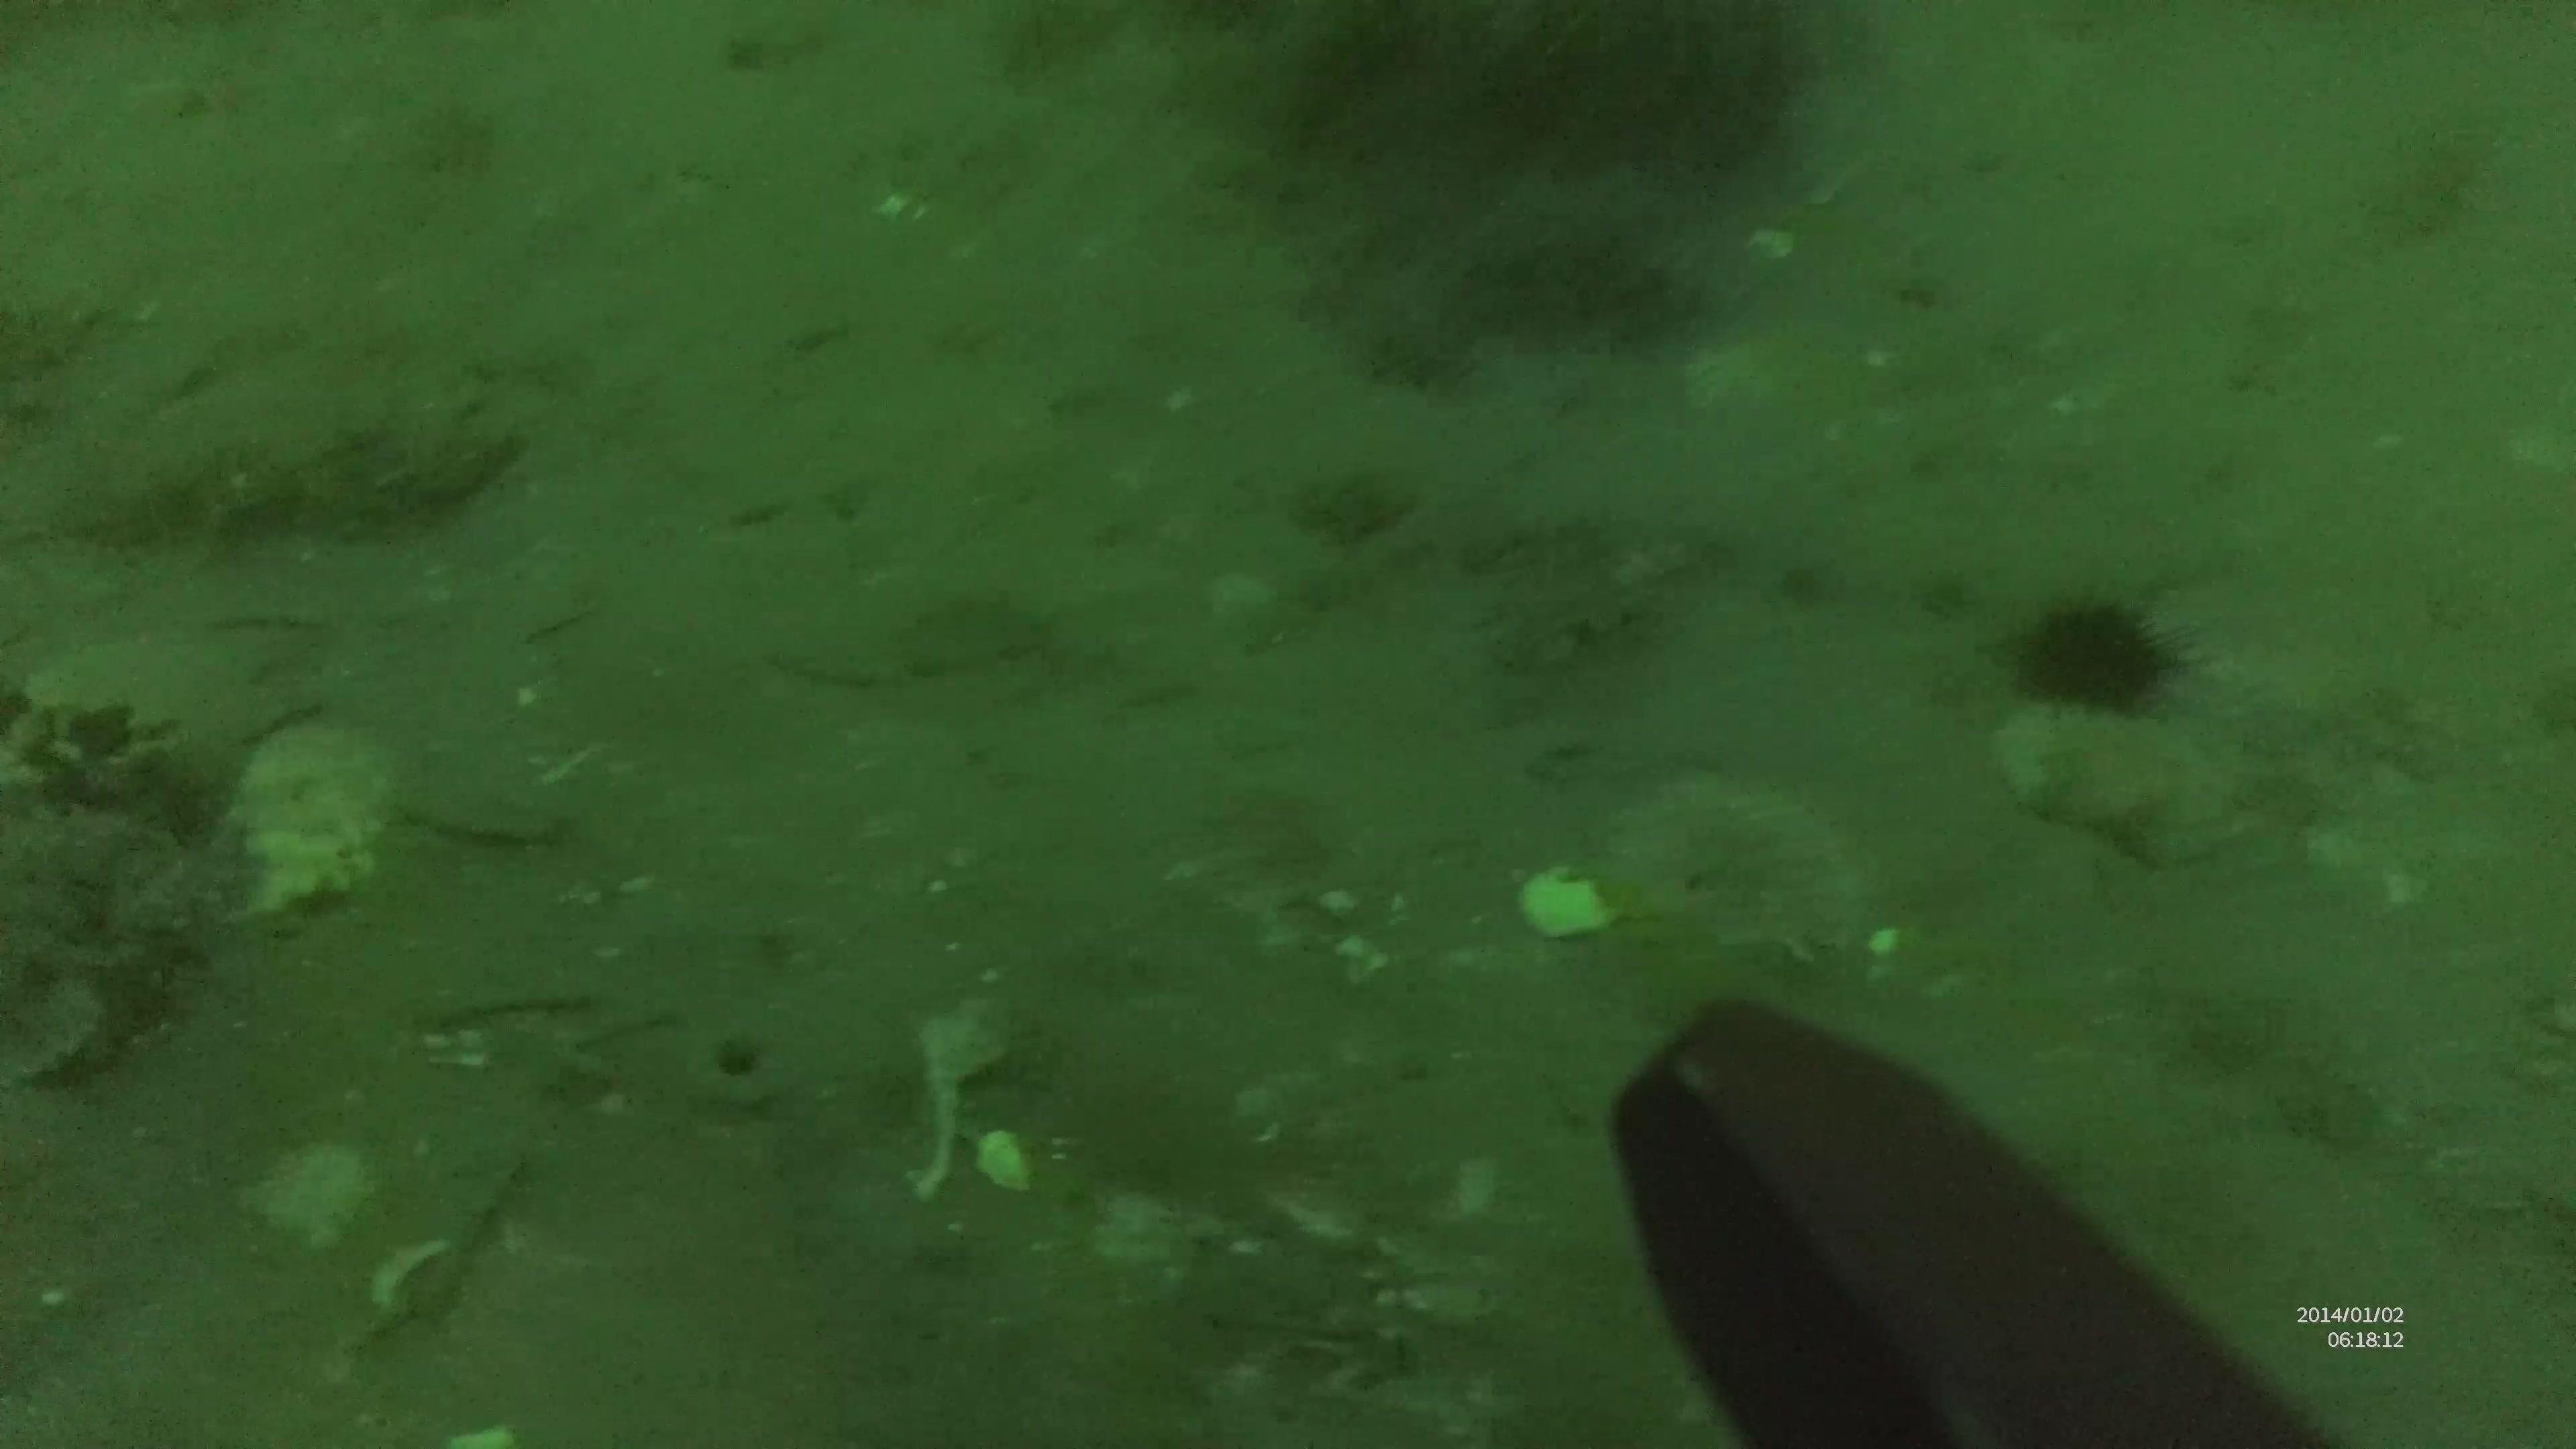echinus: (2012, 591, 2212, 727)
scallop: (1990, 692, 2227, 847), (1868, 911, 1959, 1007)
